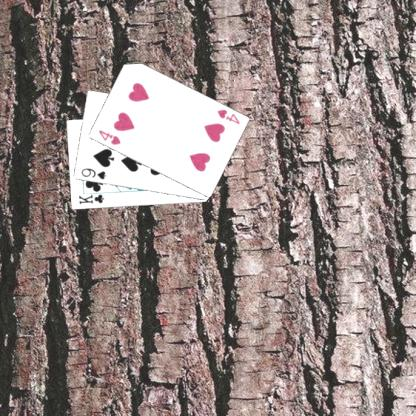4H: (95, 127, 122, 146), (214, 107, 241, 126)
9S: (78, 166, 108, 180)
KC: (76, 189, 107, 206)
